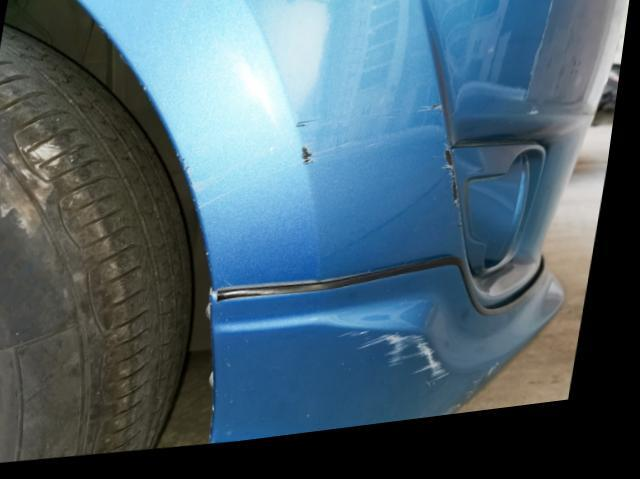scratch: (196, 111, 472, 237), (352, 338, 464, 396), (447, 377, 508, 430)
